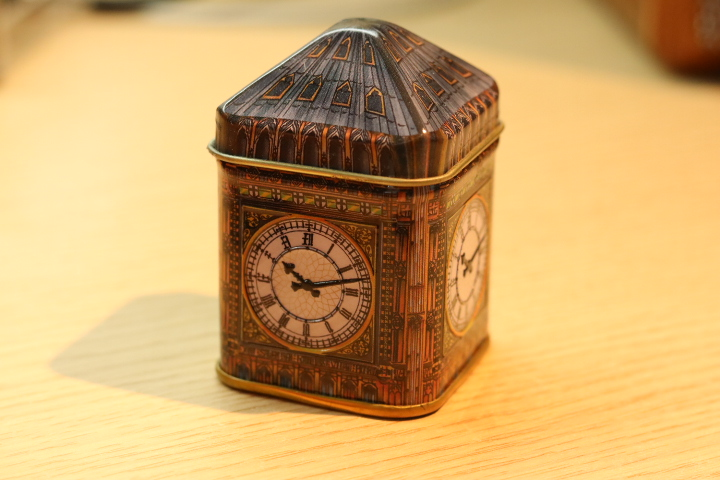Big Ben: (197, 12, 513, 426)
